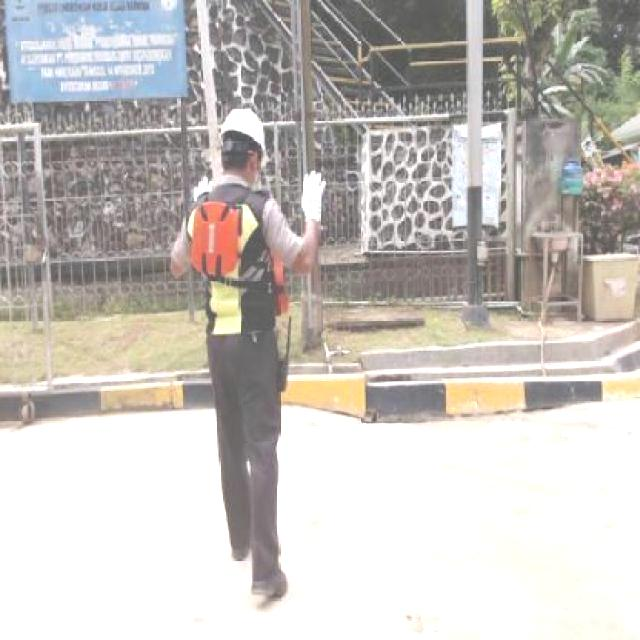Boots: (252, 560, 292, 608)
Gloves: (302, 171, 326, 220)
Helmet: (215, 105, 272, 153)
Mask: (194, 198, 292, 314)
